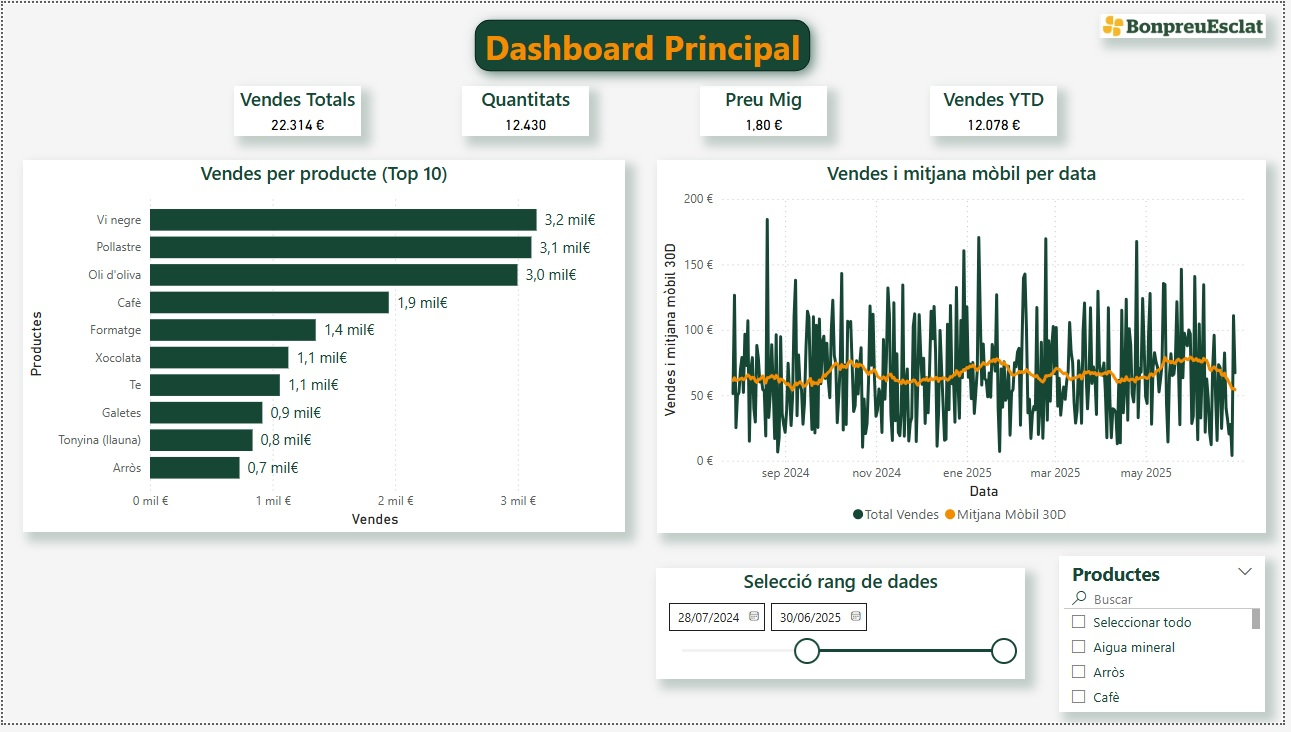

The dashboard page shown, as its layout file describes it:
{"tool":"powerbi","page":{"name":"General","canvas":[1280,720],"ordinal":0},"visuals":[{"type":"actionButton","box":[0,0,100,40],"z":1},{"type":"multiRowCard","fields":{"Values":["Sum(sales_staging.quantity)","sales_staging.Avg Price","Sum(sales_staging.total)","sales_staging.Sales YTD"]},"box":[478,40,540,68],"z":2},{"type":"image","box":[50,11,160,39],"z":3},{"type":"clusteredBarChart","fields":{"Category":["sales_staging.product"],"Y":["Sum(sales_staging.total)"]},"box":[589.3,130.4,633.9,303.6],"z":4},{"type":"lineChart","fields":{"Category":["Calendar.Date"],"Y":["sales_staging.Total Sales"]},"box":[260.7,446.4,962.5,242.9],"z":5},{"type":"slicer","fields":{"Values":["sales_staging.product"]},"box":[11,84,184,605],"z":6},{"type":"slicer","fields":{"Values":["Calendar.Data"]},"box":[231,301,290,98],"z":7}]}

Visuals, with their boxes in screenshot pixels (x1, y1, x2, y2), scaled from the page's 1280x720 canvas onto the 1291x732 screenshot:
actionButton: <box>0,0,101,41</box>
multiRowCard - Sum(sales_staging.quantity) x sales_staging.Avg Price: <box>482,41,1027,110</box>
image: <box>50,11,212,51</box>
clusteredBarChart - sales_staging.product x Sum(sales_staging.total): <box>594,133,1234,441</box>
lineChart - Calendar.Date x sales_staging.Total Sales: <box>263,454,1234,701</box>
slicer - sales_staging.product: <box>11,85,197,700</box>
slicer - Calendar.Data: <box>233,306,525,406</box>
